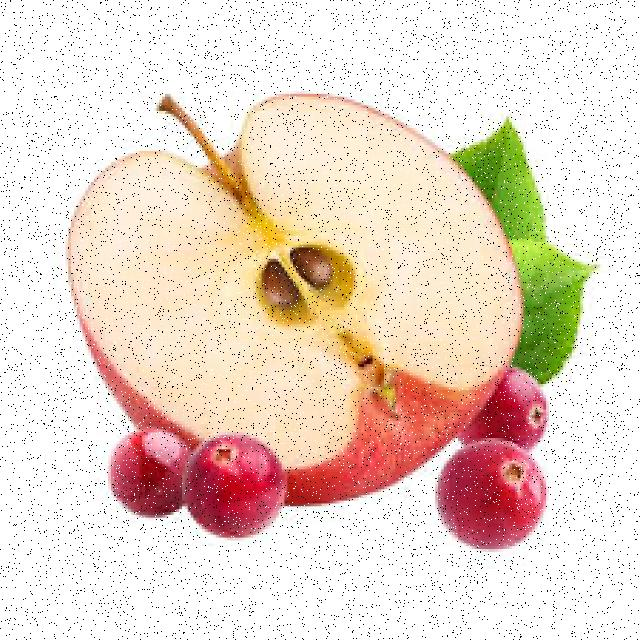Apple: (70, 94, 522, 460)
